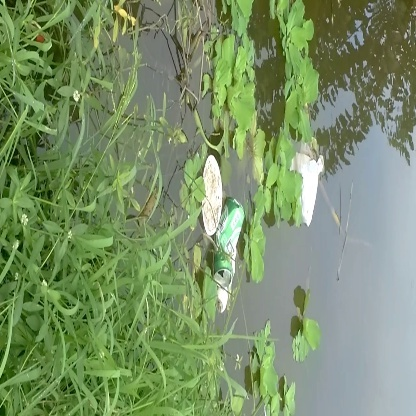bottle: (214, 193, 248, 294)
